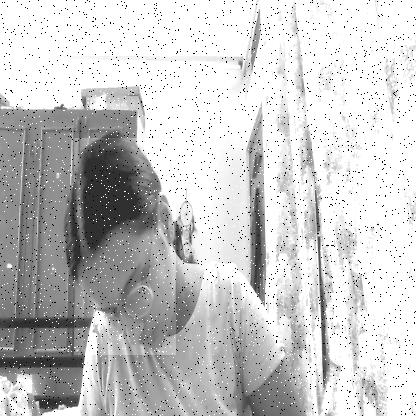Distracted: (74, 138, 176, 355)
